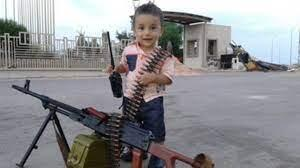larga: (12, 80, 215, 168)
